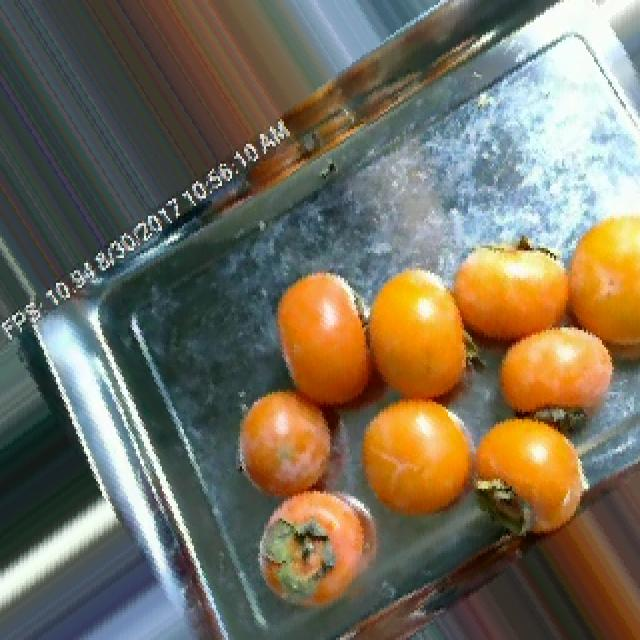Fruit: (460, 394, 604, 556), (342, 382, 488, 541), (256, 253, 386, 429), (0, 397, 112, 593), (222, 369, 358, 528)
